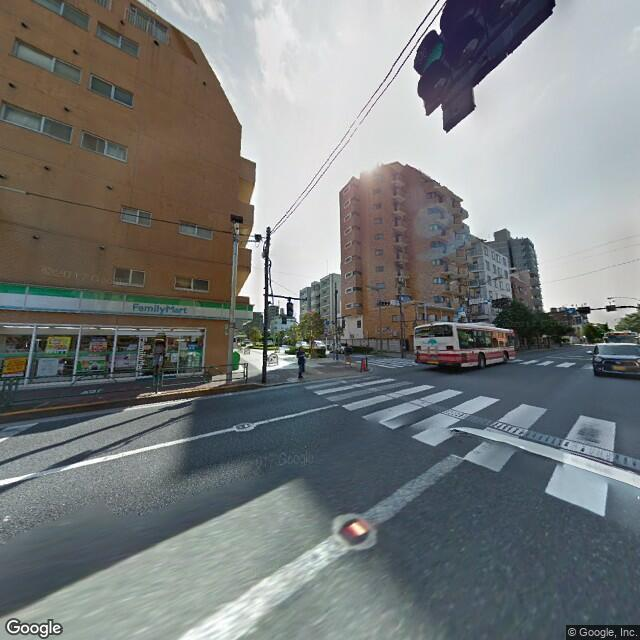family_mart: (2, 276, 254, 330)
